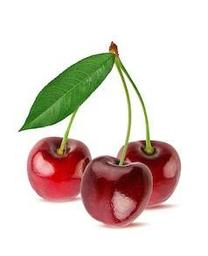cherry: (80, 155, 153, 227), (26, 136, 92, 203), (117, 141, 181, 206)
